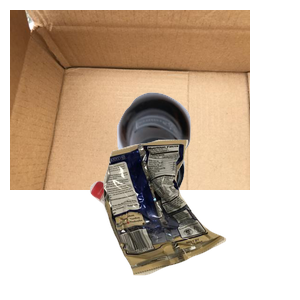cardboard: (10, 10, 250, 190)
glass: (115, 90, 300, 270)
plastic: (87, 178, 234, 300)
trash: (101, 137, 300, 300)
